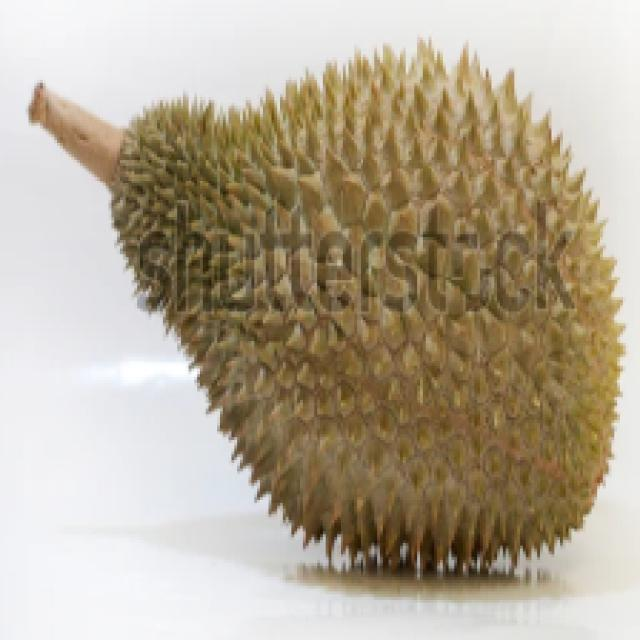d101: (103, 39, 625, 583)
